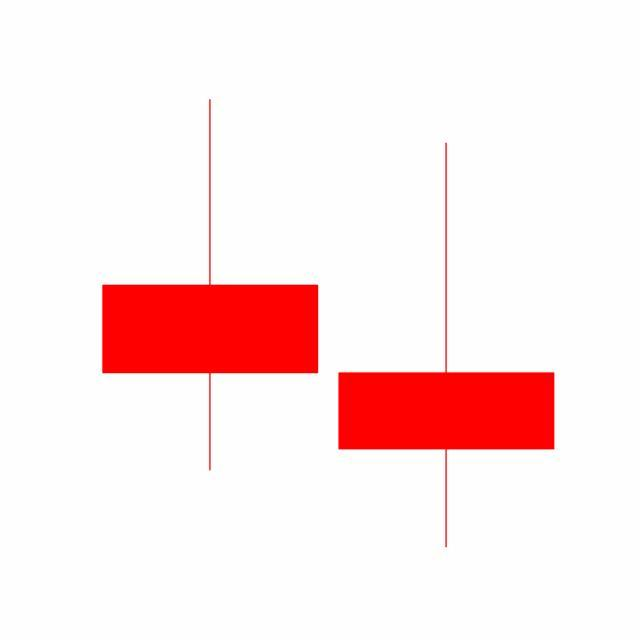Spinning Top: (328, 139, 566, 553)
